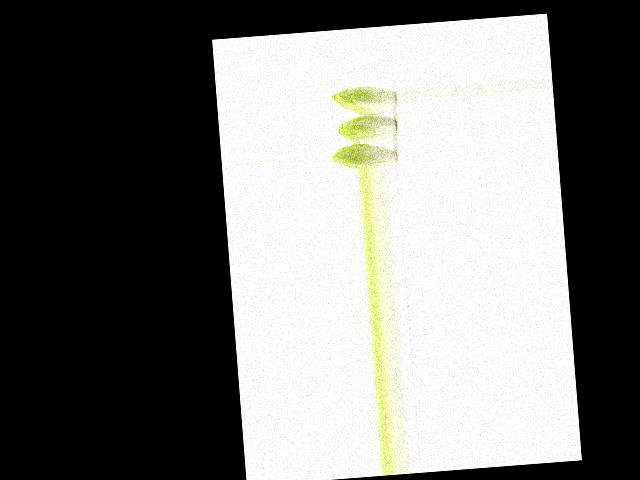lettuce: (330, 83, 399, 116)
